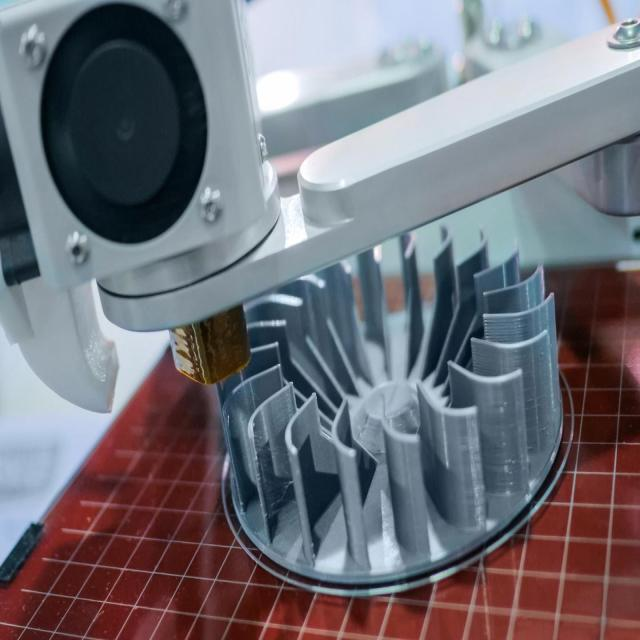Without deffect: (183, 197, 586, 587)
